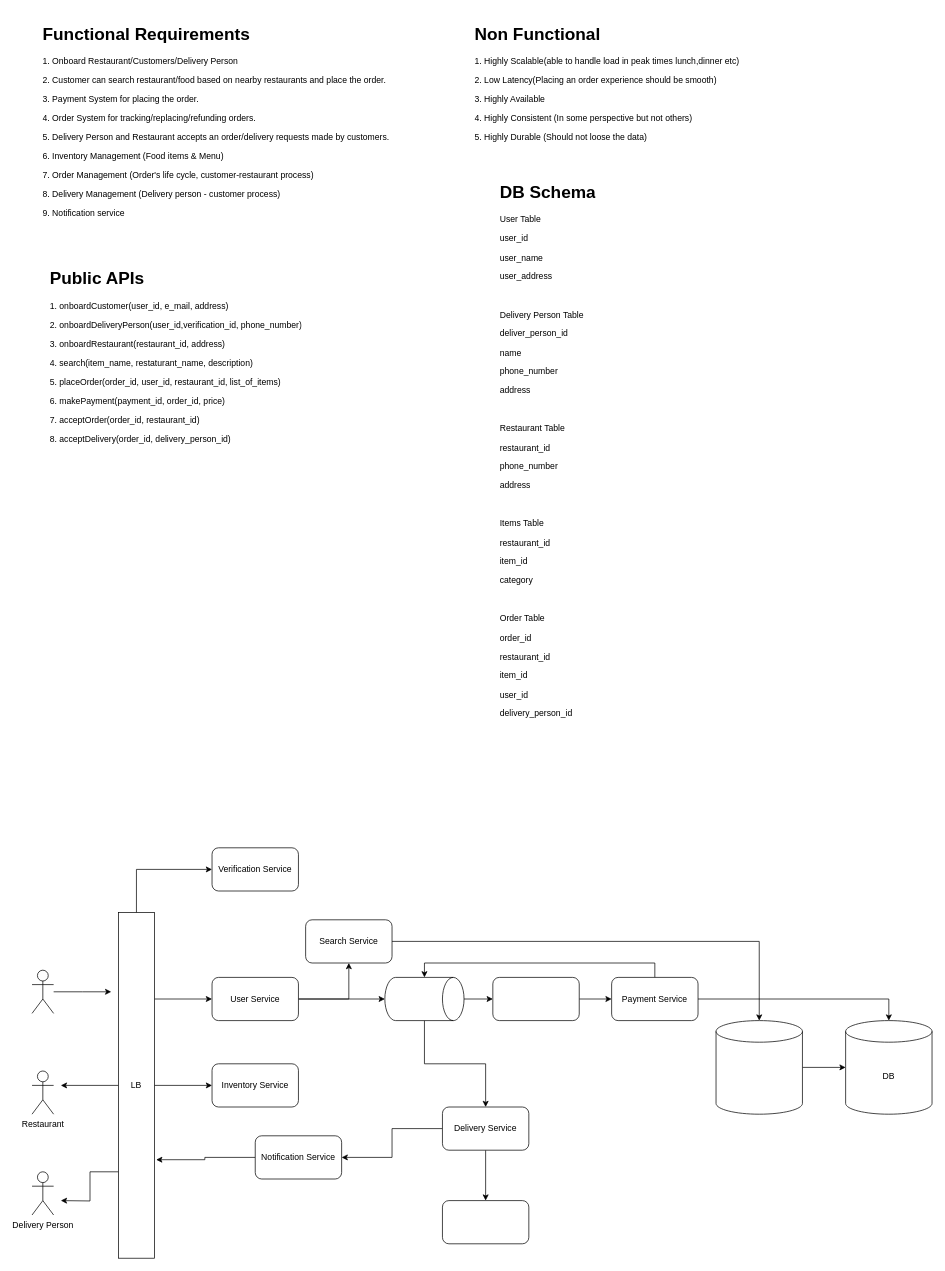
Some shapes in this 945 by 1271 pixel diagram are drawn without their labels. Each missing label, with the centre of its shape:
Cache: point (758, 1067)
Customer: point (42, 991)
DMQ: point (424, 999)
Map Service: point (485, 1222)
Order Service: point (535, 999)
